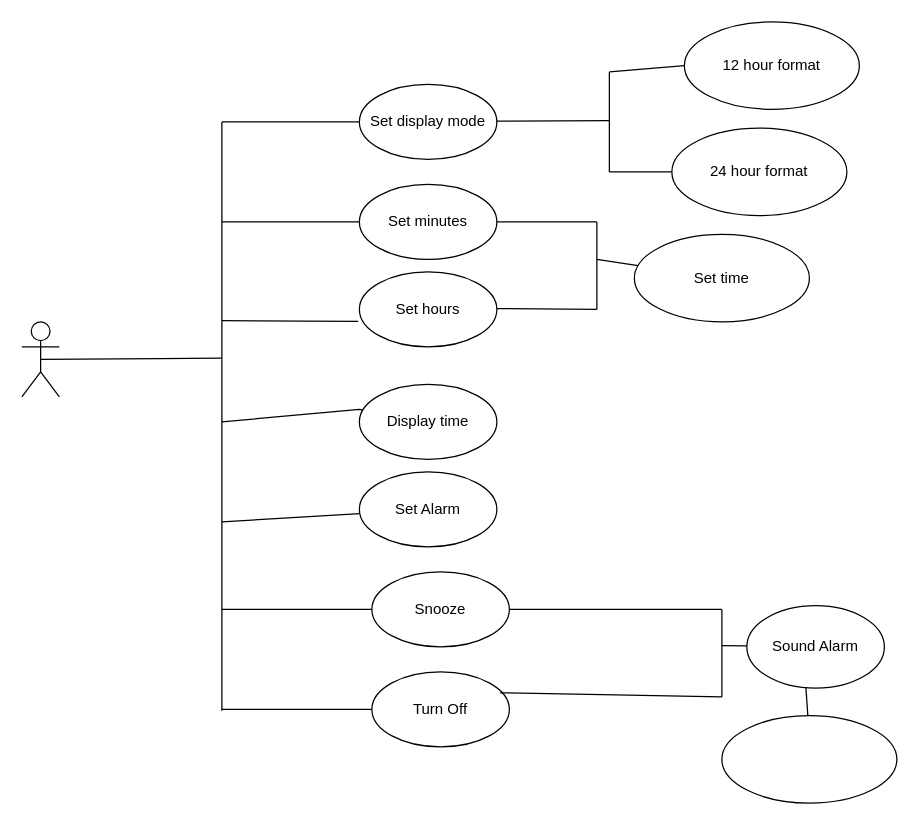
Image size: 919x825. Some labels were removed from this diagram. The shapes that lost their labels are listed below. From the top down, each one's box as (x1, y1, x2, y2) in pixels, then its label:
(21, 321, 59, 397): user
(721, 714, 897, 803): Turn off after 2 minutes
